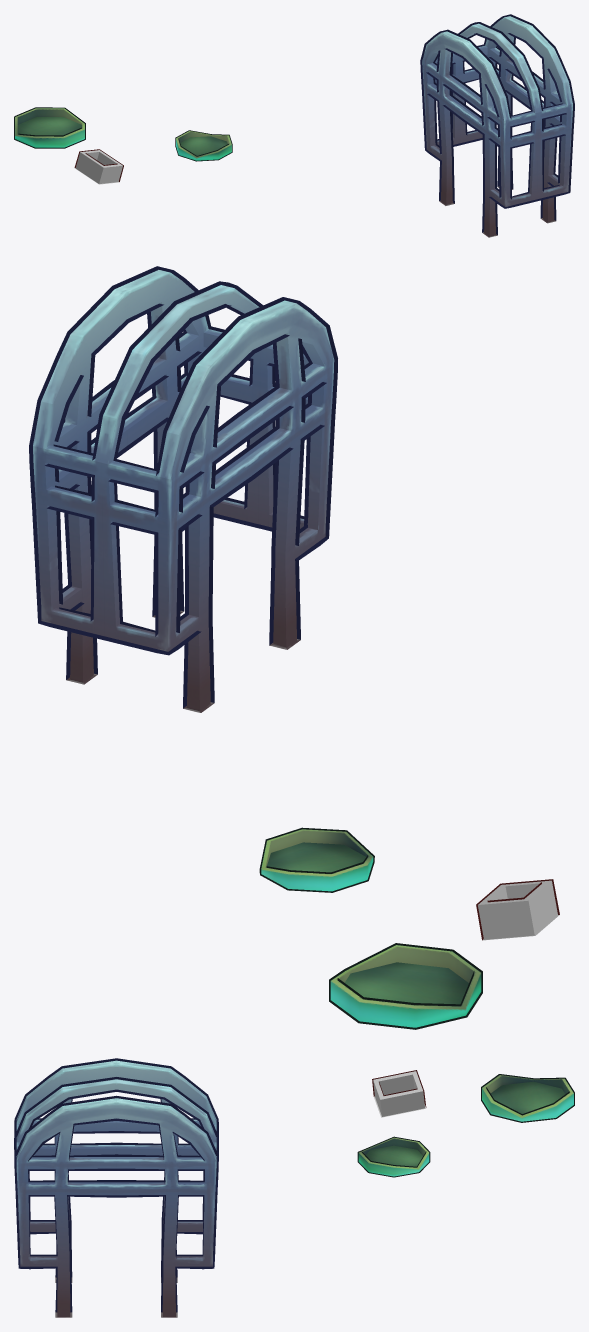
The model's file is ghost.gltf.
The picture shows the model from 3 angles, top to bottom: view 1: azimuth 30°, elevation 25°; view 2: azimuth 150°, elevation 25°; view 3: azimuth 270°, elevation 25°; orthographic projection. The views are drawn at different scales.
Visible parts, largest first — view 1: Cube.005, Circle.032, Circle.031_TT_checker_4_0.001, Cube.026; view 2: Cube.005, Circle.032, Circle.031_TT_checker_4_0.001, Cube.026; view 3: Cube.005, Circle.032, Circle.031_TT_checker_4_0.001, Cube.026, Circle.031_Line art Green _0.001.
Part boxes in pixels (x1,y1,x2,y2): Cube.005: [420, 14, 574, 237]; Circle.032: [14, 107, 85, 148]; Circle.031_TT_checker_4_0.001: [176, 131, 231, 160]; Cube.026: [74, 149, 123, 184]; Cube.005: [29, 266, 337, 712]; Circle.032: [329, 943, 482, 1029]; Circle.031_TT_checker_4_0.001: [261, 829, 373, 891]; Cube.026: [476, 879, 559, 940]; Cube.005: [14, 1058, 218, 1317]; Circle.032: [481, 1074, 574, 1122]; Circle.031_TT_checker_4_0.001: [358, 1137, 429, 1176]; Cube.026: [372, 1070, 426, 1117]; Circle.031_Line art Green _0.001: [357, 1136, 430, 1177].
Bounding box in the file's own units: 7.33 × 3.59 × 8.34.
